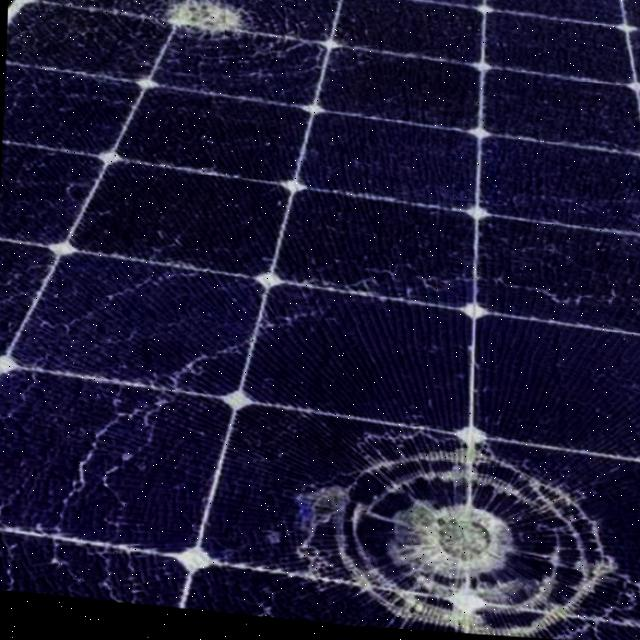Anomaly Solar Panel: (0, 0, 640, 640)
Structural Damage: (276, 425, 640, 640), (59, 0, 330, 88)
